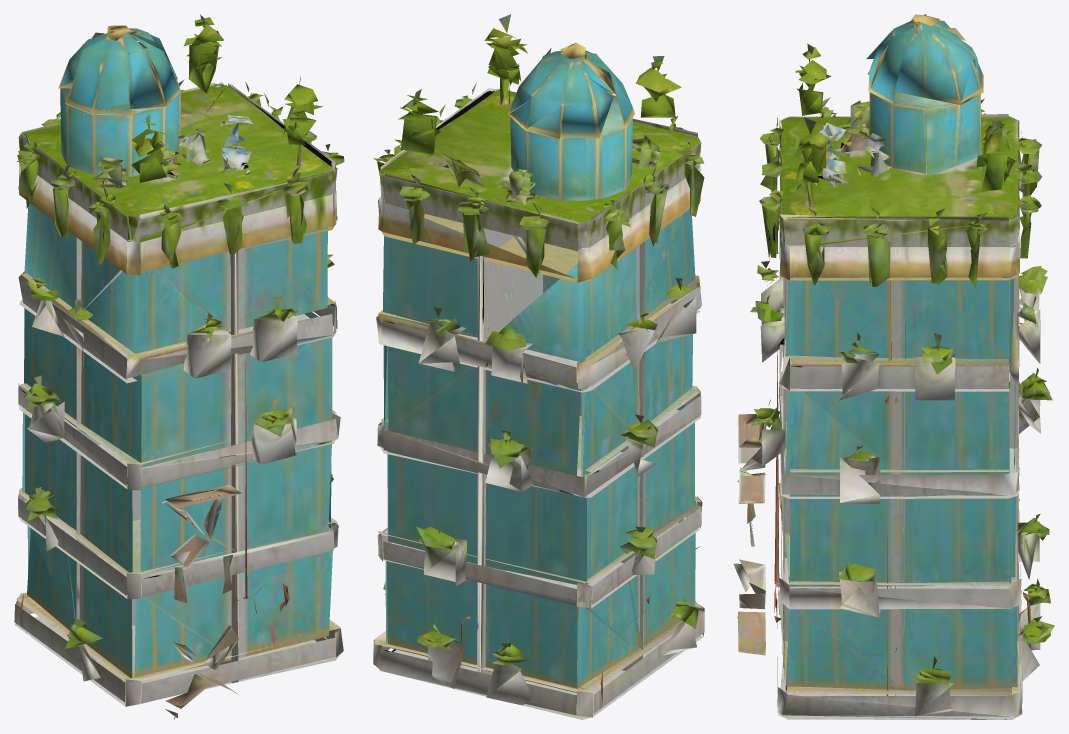
The model's file is glass-tower.lod1.glb.
3 renders of one model, left to right at view 1: azimuth 30°, elevation 25°; view 2: azimuth 150°, elevation 25°; view 3: azimuth 270°, elevation 25°, orthographic.
Visible parts, largest first — view 1: glass-tower_lod1; view 2: glass-tower_lod1; view 3: glass-tower_lod1.
Part boxes in pixels (box(x1,y1,x2,y2)): glass-tower_lod1: box(14, 14, 344, 719); glass-tower_lod1: box(373, 14, 704, 719); glass-tower_lod1: box(733, 14, 1054, 719).
Bounding box in the file's own units: 5.03 × 10.99 × 5.1.
1 material, 1 textured.
